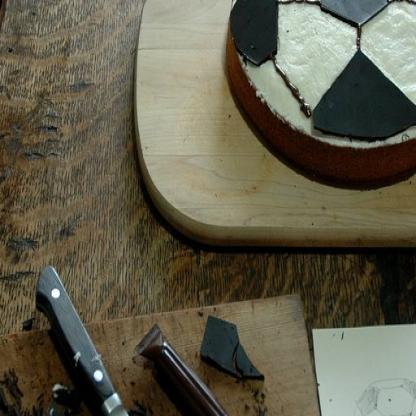knife: (37, 260, 238, 414)
